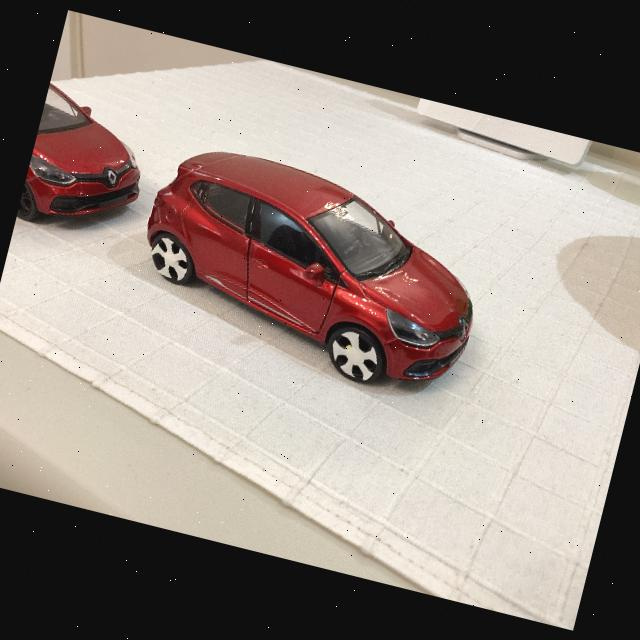Dogru_Jant: (18, 187, 36, 214)
Yanlis_Jant: (326, 327, 384, 382), (146, 234, 193, 284)
